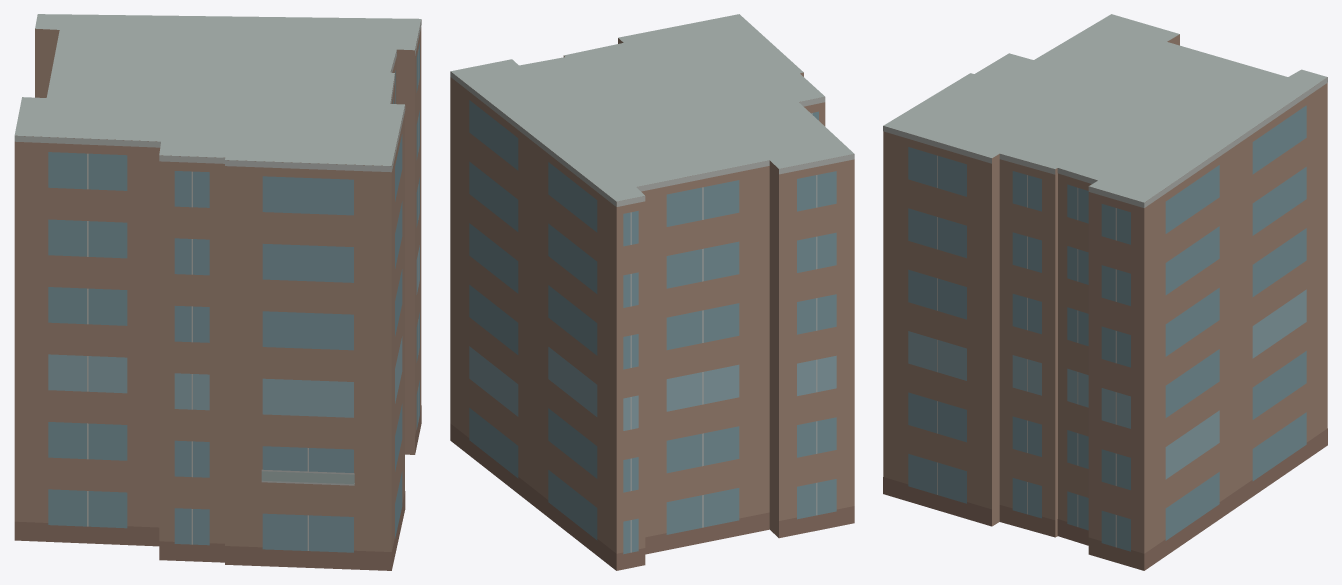
The model's file is survey-upis-32607872.glb.
The picture shows the model from 3 angles, left to right: view 1: azimuth 30°, elevation 25°; view 2: azimuth 150°, elevation 25°; view 3: azimuth 270°, elevation 25°; orthographic projection. The views are drawn at different scales.
Parts seen in each view (by area): view 1: survey-upis-32607872.tmp; view 2: survey-upis-32607872.tmp; view 3: survey-upis-32607872.tmp.
Boxes of the visible parts, bbox=[...] form: survey-upis-32607872.tmp: bbox=[14, 14, 421, 570]; survey-upis-32607872.tmp: bbox=[450, 14, 854, 570]; survey-upis-32607872.tmp: bbox=[883, 14, 1327, 570].
Bounding box in the file's own units: 17.81 × 16.2 × 17.73.
